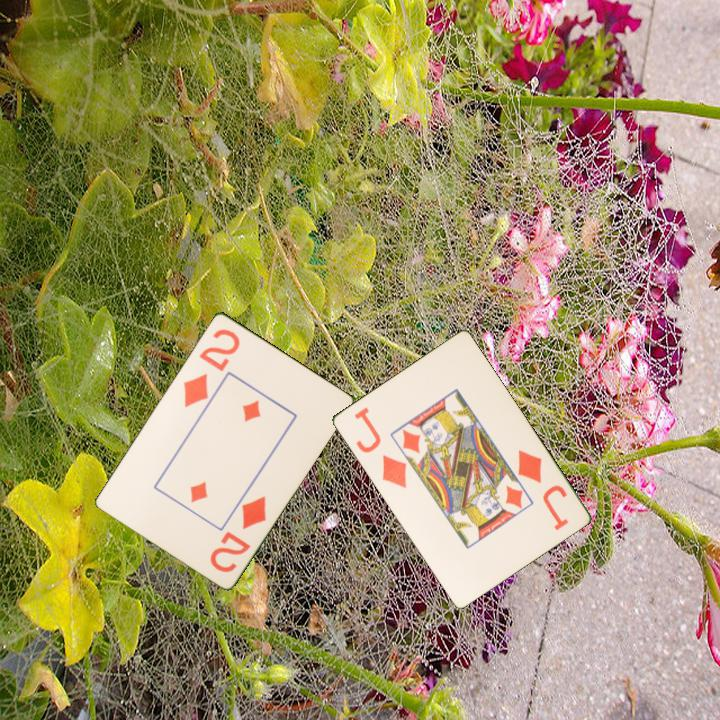2d: (180, 325, 243, 410), (206, 492, 269, 575)
Jd: (350, 403, 409, 491), (514, 446, 571, 534)
